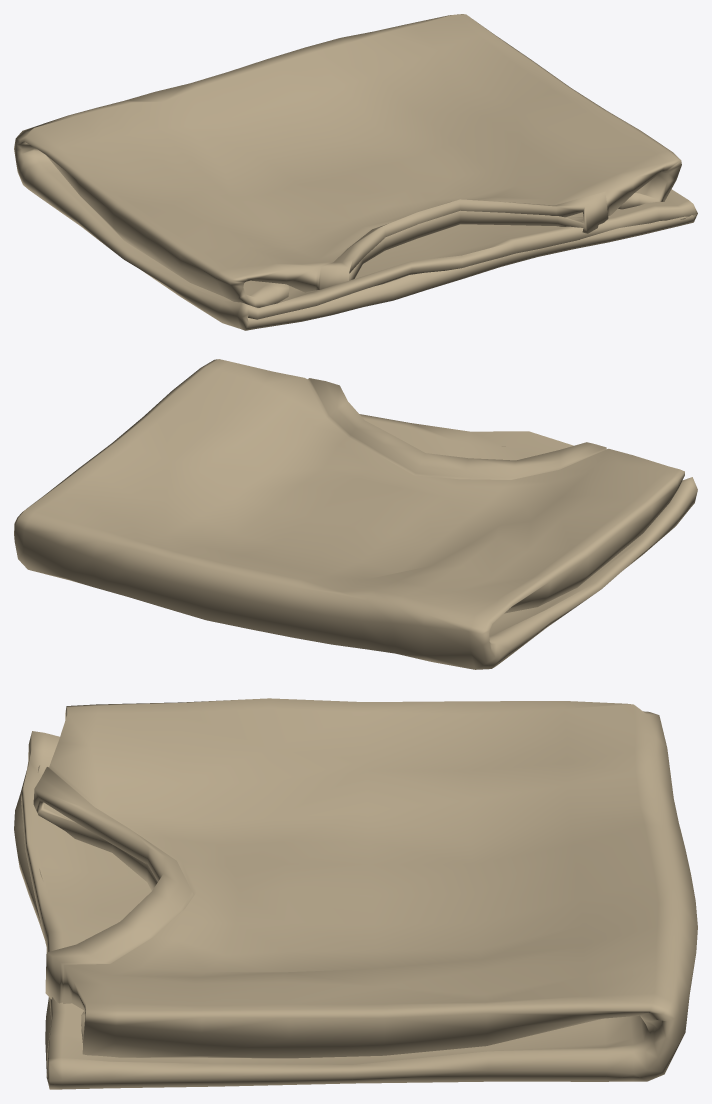
Rendered from Folded_T_Shirt36.fbx.
3 views of the same model, one above another, from view 1: azimuth 30°, elevation 25°; view 2: azimuth 150°, elevation 25°; view 3: azimuth 270°, elevation 25° (orthographic). The views are drawn at different scales.
Visible parts, largest first — view 1: Folded_T_Shirt36; view 2: Folded_T_Shirt36; view 3: Folded_T_Shirt36.
Part boxes in pixels (bbox=[...]): Folded_T_Shirt36: bbox=[14, 14, 697, 330]; Folded_T_Shirt36: bbox=[14, 359, 697, 669]; Folded_T_Shirt36: bbox=[14, 698, 697, 1089].
Size of the model in its own units: 36.95 by 4.2 by 32.8.
1 material, 1 textured.
